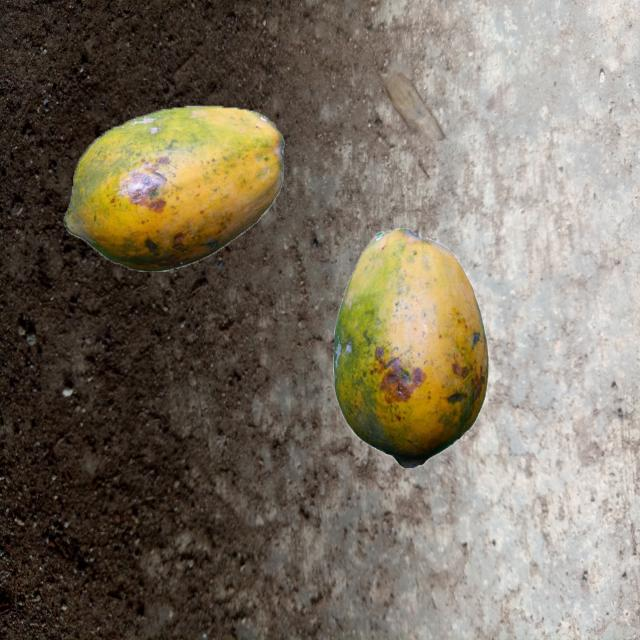Pepaya rippen: (323, 215, 497, 480), (64, 86, 295, 272)
